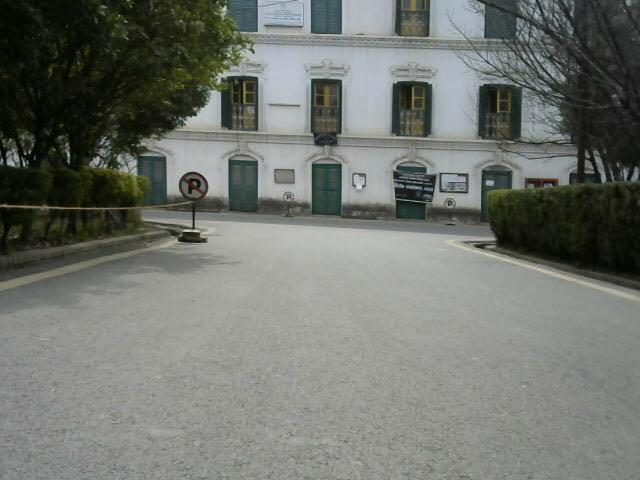Building: (239, 7, 606, 215)
Road: (0, 210, 640, 480)
Traffic sign: (176, 170, 221, 251), (279, 185, 299, 226), (444, 189, 461, 231)
Tree: (0, 2, 241, 148), (486, 12, 640, 154)
